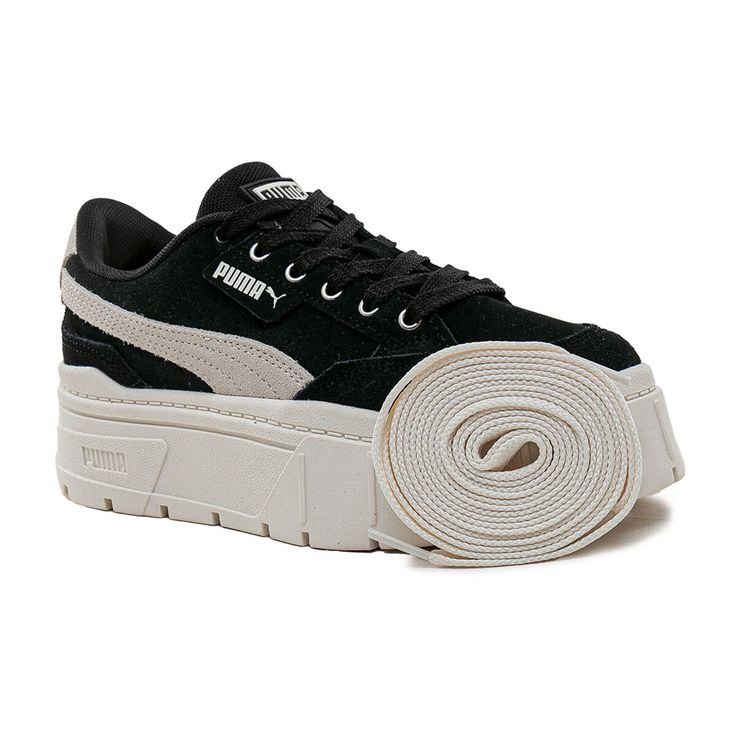gamuza: (58, 161, 645, 411)
